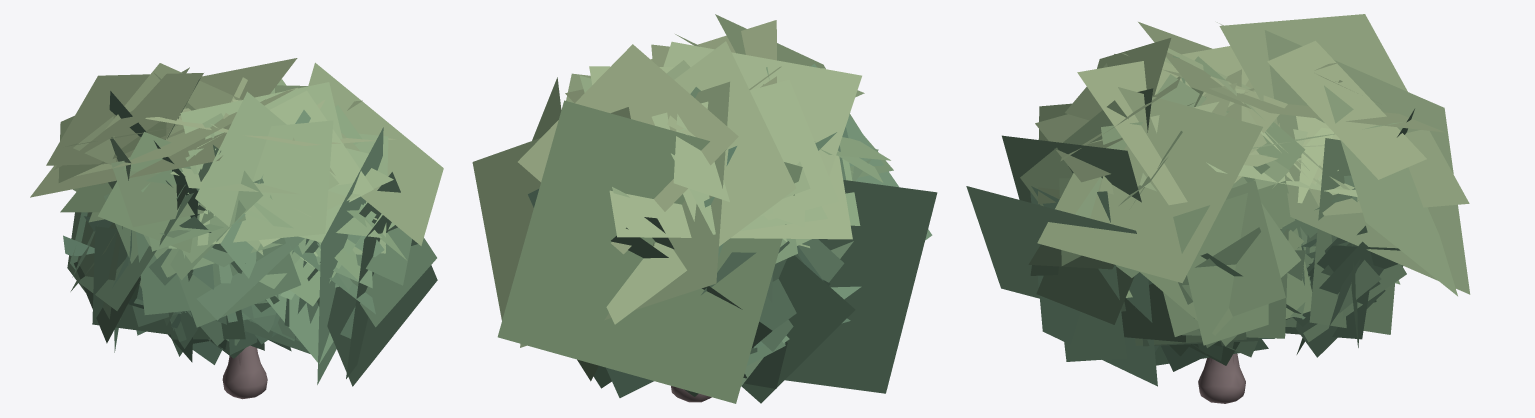
File: oak_v1.glb
The picture shows the model from 3 angles, left to right: view 1: azimuth 30°, elevation 25°; view 2: azimuth 150°, elevation 25°; view 3: azimuth 270°, elevation 25°; orthographic projection. The views are drawn at different scales.
Visible parts, largest first — view 1: near, far; view 2: far, near; view 3: far, near.
Part boxes in pixels (left/top/right/bottom): near: left=46, top=63, right=436, bottom=399; far: left=30, top=58, right=443, bottom=386; far: left=472, top=20, right=937, bottom=403; near: left=532, top=14, right=893, bottom=402; far: left=966, top=14, right=1470, bottom=386; near: left=1020, top=22, right=1406, bottom=403.
Size of the model in its own units: 15.26 by 13.32 by 18.64.
